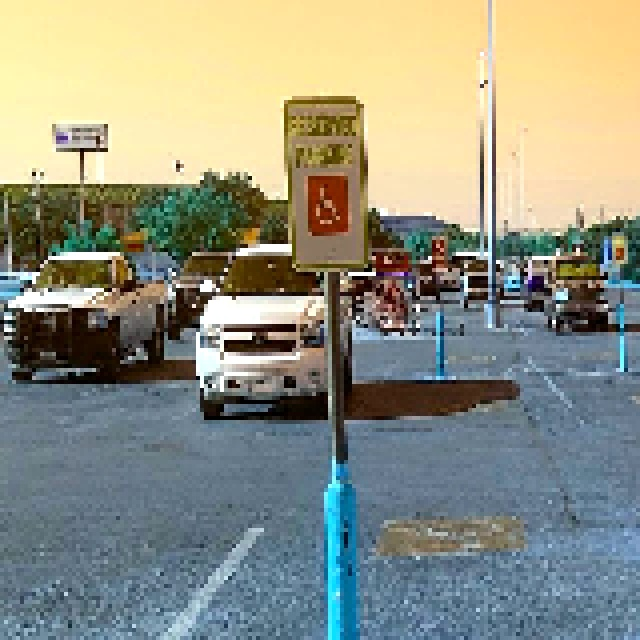ISA: (311, 180, 344, 228), (431, 234, 445, 254), (613, 242, 624, 262)
